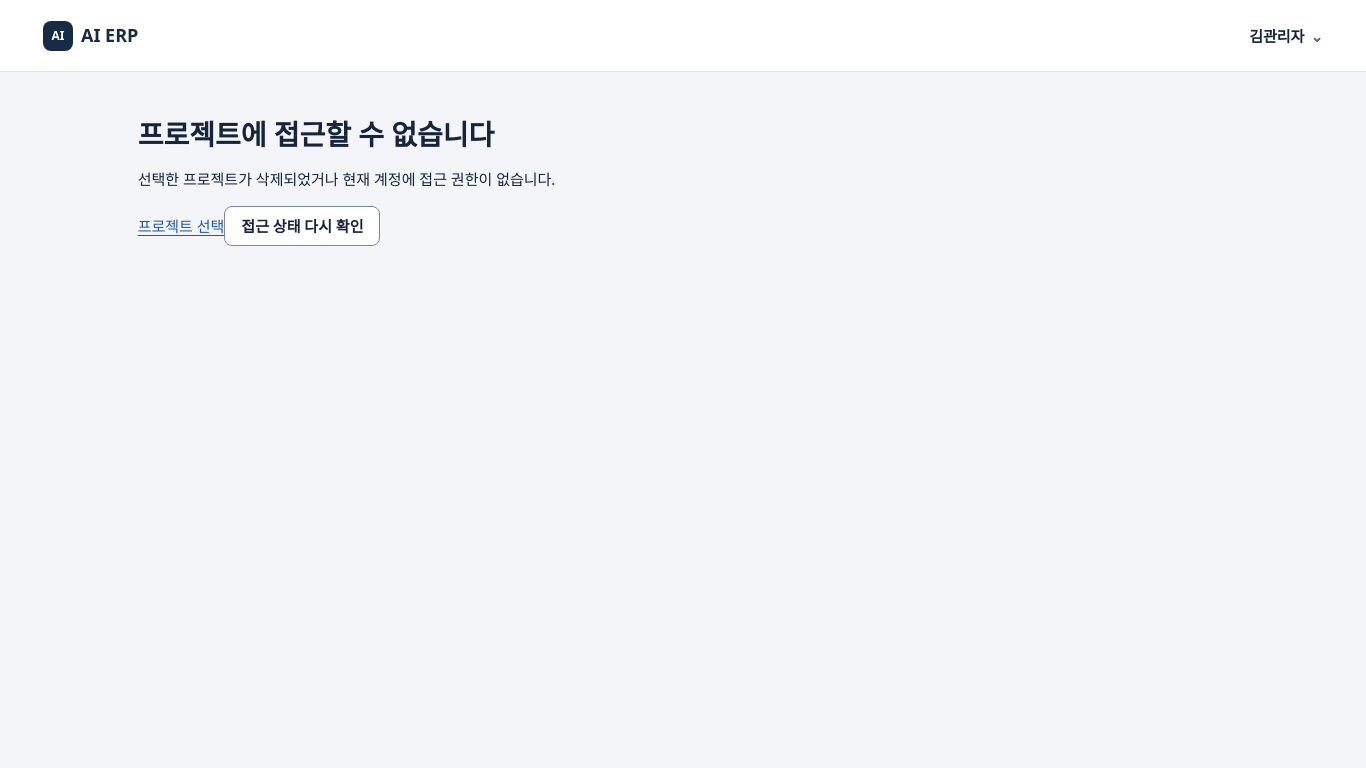
Test: missing project exposes a real membership retry without child requests: /projects/missing
Expected: the text "선택한 프로젝트가 삭제되었거나 현재 계정에 접근 권한이 없습니다." is shown, [138, 169, 555, 189]
Step 1. Click the button "접근 상태 다시 확인" → coordinates (302, 226), box [224, 206, 380, 246]
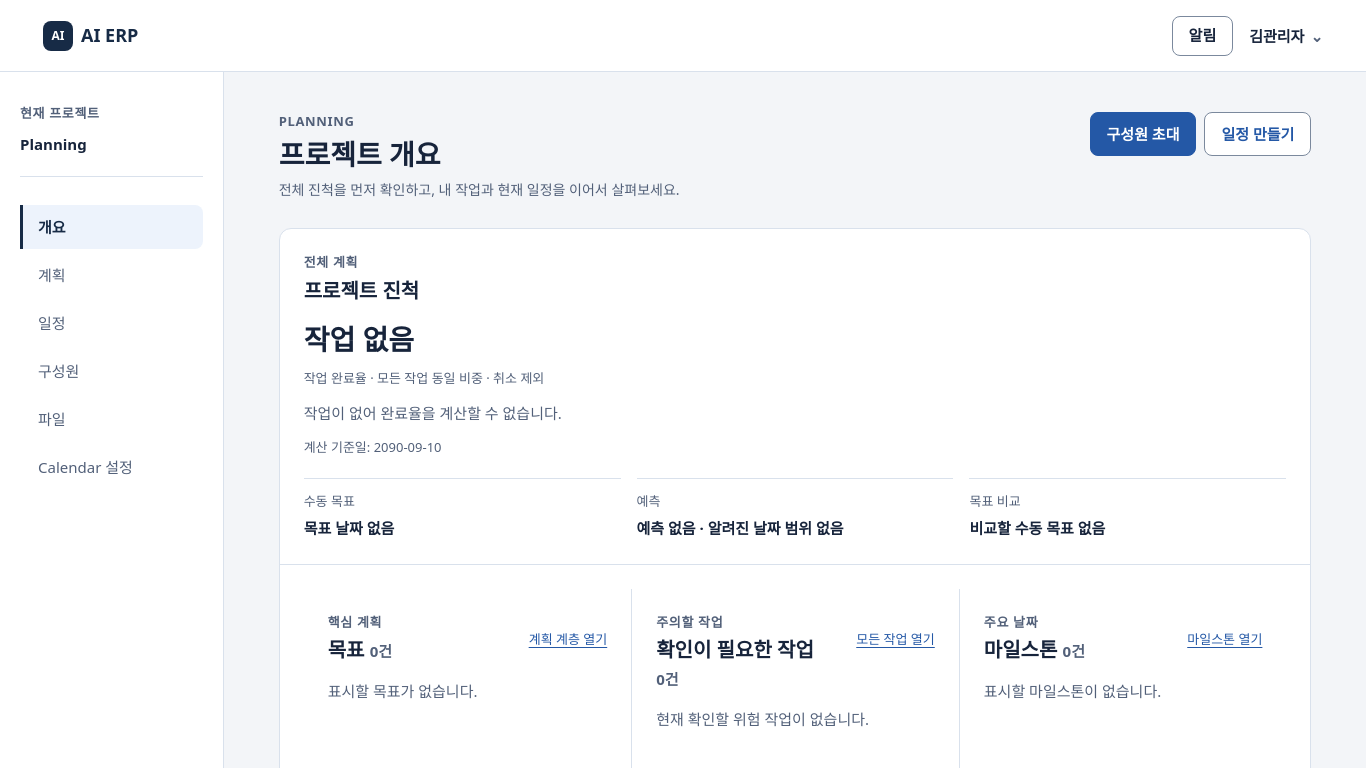
Now the heading "프로젝트 개요" is shown, box [279, 134, 440, 172]
